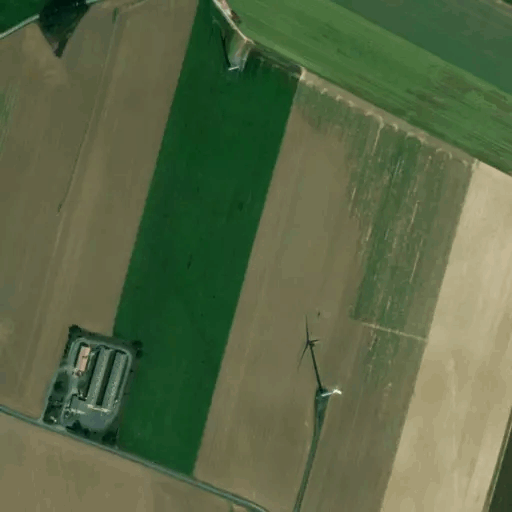wt: (290, 312, 346, 408)
